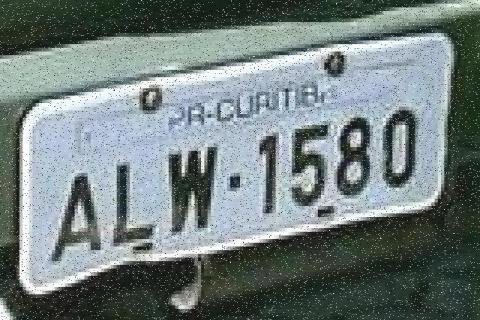LicensePlate: (21, 55, 450, 271)
